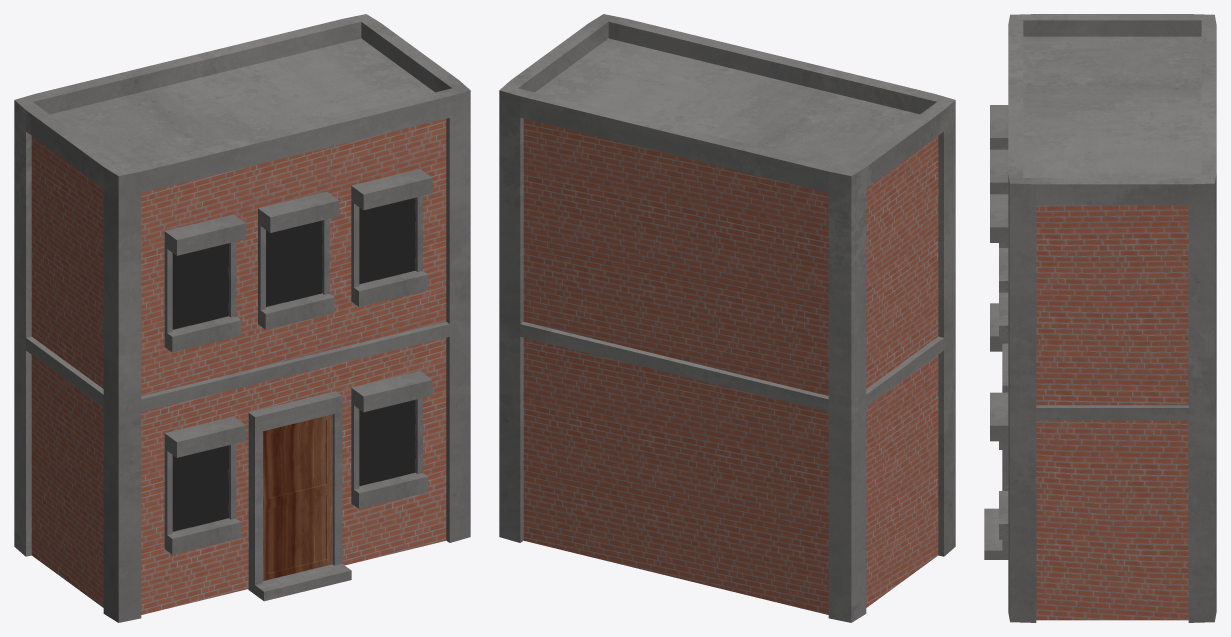
Rendered from building_1_001.glb.
The picture shows the model from 3 angles, left to right: view 1: azimuth 30°, elevation 25°; view 2: azimuth 150°, elevation 25°; view 3: azimuth 270°, elevation 25°; orthographic projection.
Parts seen in each view (by area): view 1: building_1.001; view 2: building_1.001; view 3: building_1.001.
Boxes of the visible parts, x1=… form: building_1.001: x1=14, y1=14, x2=470, y2=622; building_1.001: x1=499, y1=14, x2=955, y2=622; building_1.001: x1=984, y1=14, x2=1216, y2=622.
Size of the model in its own units: 4.13 by 4.97 by 2.38.
1 material, 1 textured.
